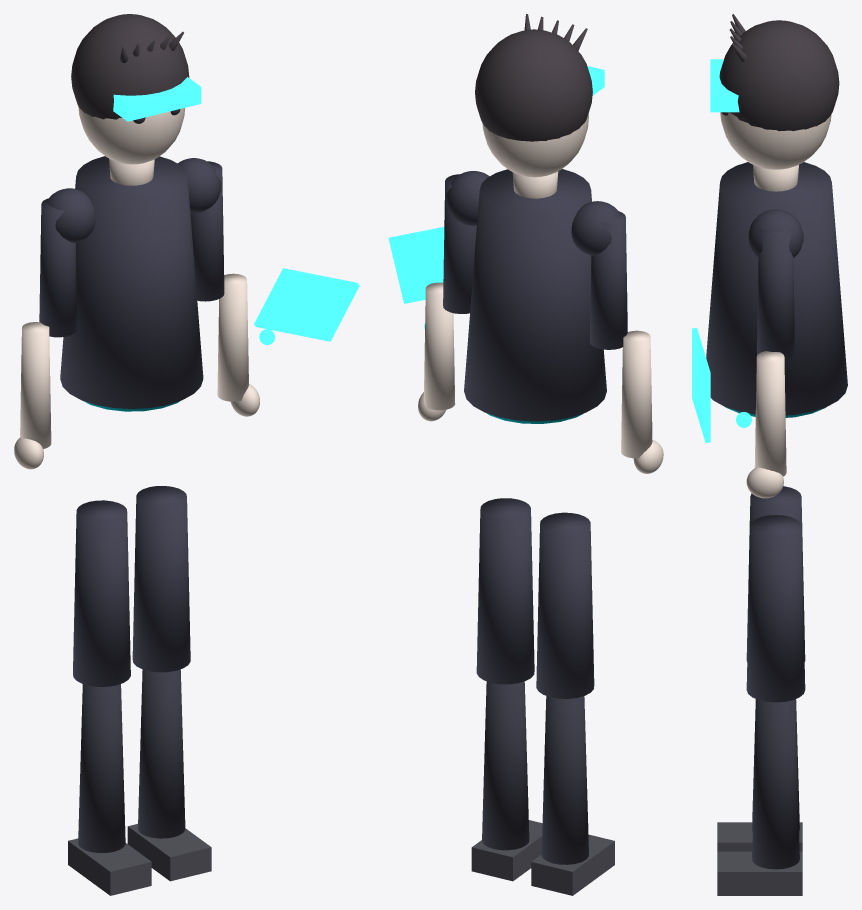
Rendered from shen_zhou.glb.
3 renders of one model, left to right at view 1: azimuth 30°, elevation 25°; view 2: azimuth 150°, elevation 25°; view 3: azimuth 270°, elevation 25°, orthographic.
Visible parts, largest first — view 1: Torso, ThighR, ThighL, HairCap, ShinL, ShinR, HoloScreen, UpperArmL, Head, ForeArmR, ForeArmL, FootL (+7 smaller); view 2: Torso, HairCap, ThighR, ThighL, ShinR, ShinL, UpperArmL, ForeArmL, ForeArmR, Head, HoloScreen, UpperArmR (+6 smaller); view 3: Torso, HairCap, ThighR, ShinR, UpperArmR, Head, ForeArmR, FootR, ThighL, HoloScreen, ShoulderR, FootL (+4 smaller).
Boxes of the visible parts, x1,y1,x2,y2 form: Torso: [60, 156, 203, 408]; ThighR: [132, 486, 190, 672]; ThighL: [73, 500, 130, 686]; HairCap: [71, 14, 189, 119]; ShinL: [78, 684, 125, 852]; ShinR: [138, 669, 185, 838]; HoloScreen: [254, 268, 359, 341]; UpperArmL: [39, 198, 77, 337]; Head: [78, 106, 184, 164]; ForeArmR: [217, 273, 248, 401]; ForeArmL: [20, 322, 51, 448]; FootL: [68, 838, 151, 895]; Torso: [464, 169, 606, 421]; HairCap: [475, 29, 592, 141]; ThighR: [476, 498, 534, 684]; ThighL: [536, 512, 594, 698]; ShinR: [482, 681, 529, 850]; ShinL: [541, 696, 588, 864]; UpperArmL: [590, 211, 627, 349]; ForeArmL: [621, 330, 652, 458]; ForeArmR: [424, 282, 455, 410]; Head: [482, 114, 588, 177]; HoloScreen: [388, 227, 444, 303]; UpperArmR: [443, 174, 476, 313]; Torso: [706, 162, 847, 415]; HairCap: [719, 20, 839, 131]; ThighR: [746, 515, 805, 702]; ShinR: [752, 699, 799, 869]; UpperArmR: [757, 229, 794, 360]; Head: [720, 112, 831, 169]; ForeArmR: [754, 351, 786, 476]; FootR: [717, 851, 802, 895]; ThighL: [746, 486, 805, 661]; HoloScreen: [692, 328, 710, 442]; ShoulderR: [748, 209, 803, 257]; FootL: [717, 822, 802, 851].
Bounding box in the file's own units: 0.6665 × 1.75 × 0.2924.
